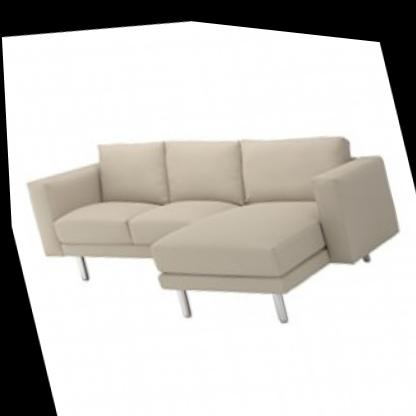Sofa: (3, 69, 416, 372)
